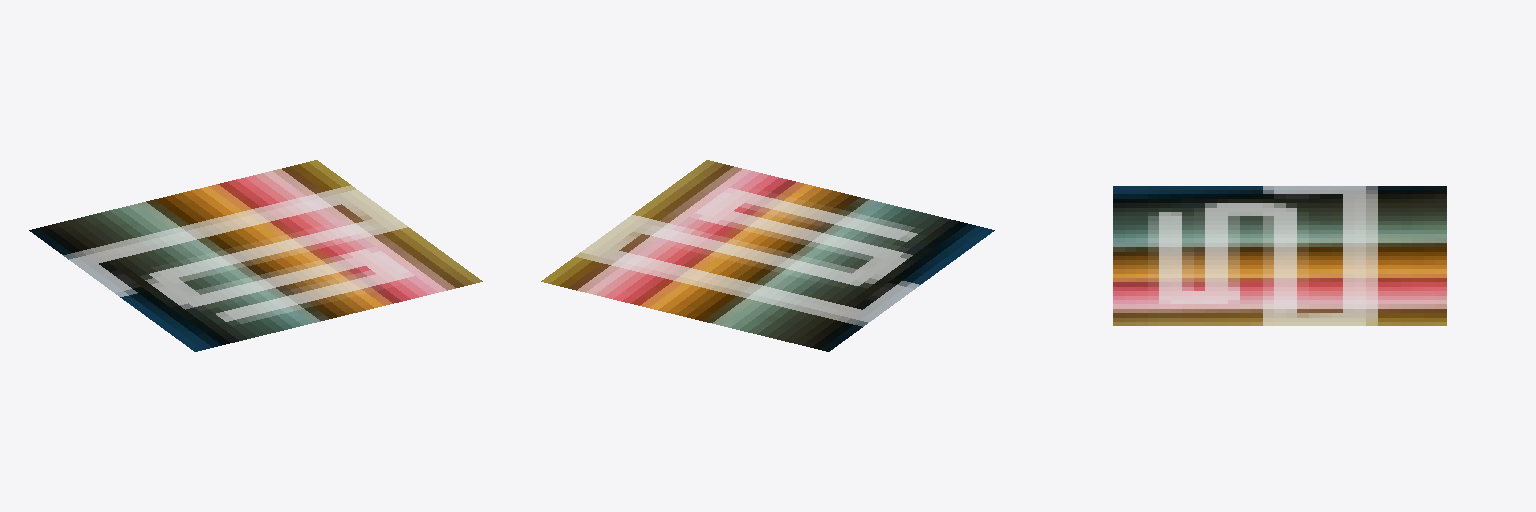
3 views of the same model, side by side, from view 1: azimuth 30°, elevation 25°; view 2: azimuth 150°, elevation 25°; view 3: azimuth 270°, elevation 25° (orthographic).
Visible parts, largest first — view 1: Plane; view 2: Plane; view 3: Plane.
Part boxes in pixels (x1,y1,x2,y2): Plane: (29,160,482,351); Plane: (541,160,994,351); Plane: (1113,186,1446,325).
Size of the model in its own units: 2 by 0 by 2.
Materials: 1 (1 with a texture image).